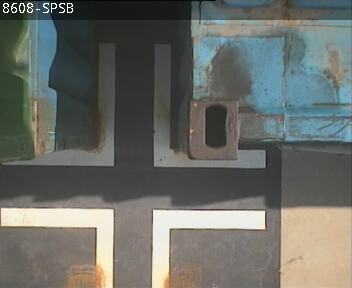groundmarker_1: (24, 44, 266, 166), (1, 206, 265, 288)
